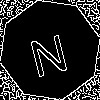N: (25, 25, 71, 78)
